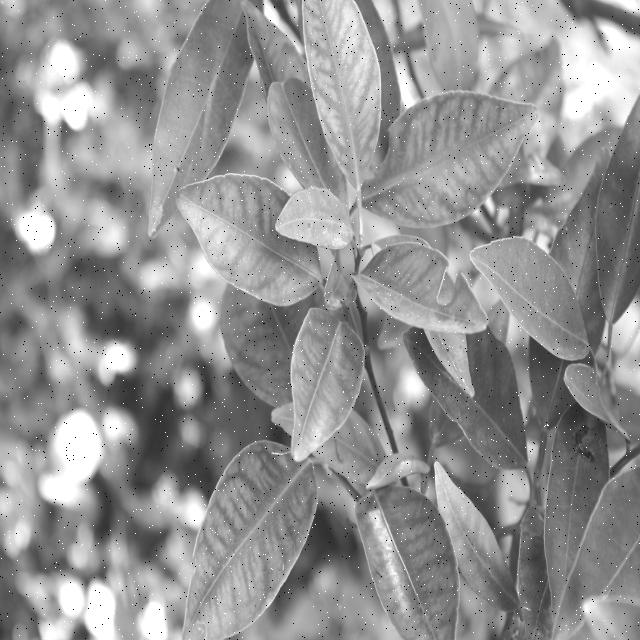greening: (189, 461, 315, 630), (376, 100, 536, 224), (183, 183, 311, 296), (305, 5, 382, 168), (291, 306, 362, 452)
